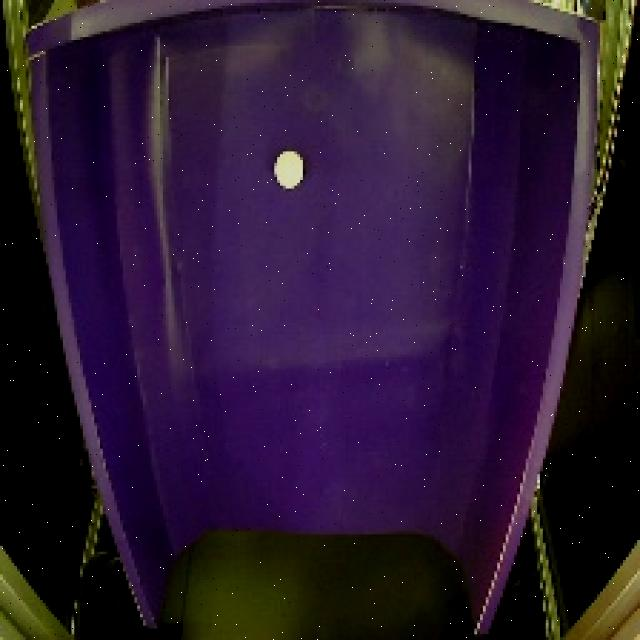small: (264, 147, 313, 193)
